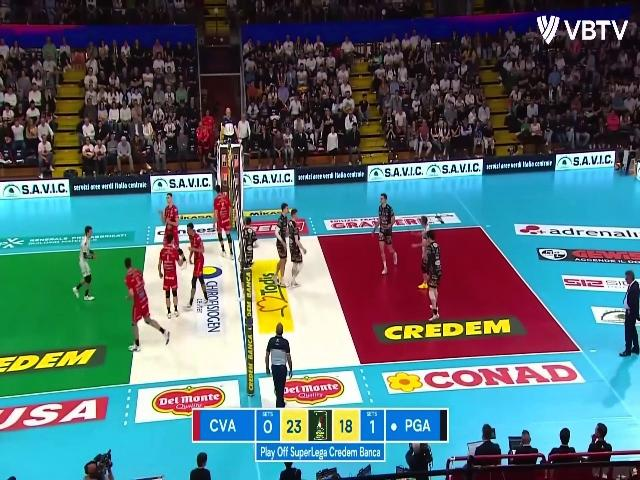volleyball court: (0, 225, 581, 398)
